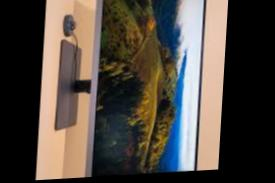monitor: (80, 0, 210, 178)
